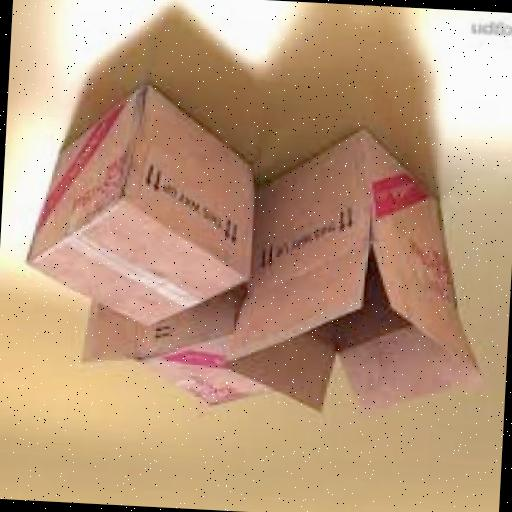cardboard: (229, 124, 500, 426), (24, 79, 262, 336), (82, 270, 278, 416)
